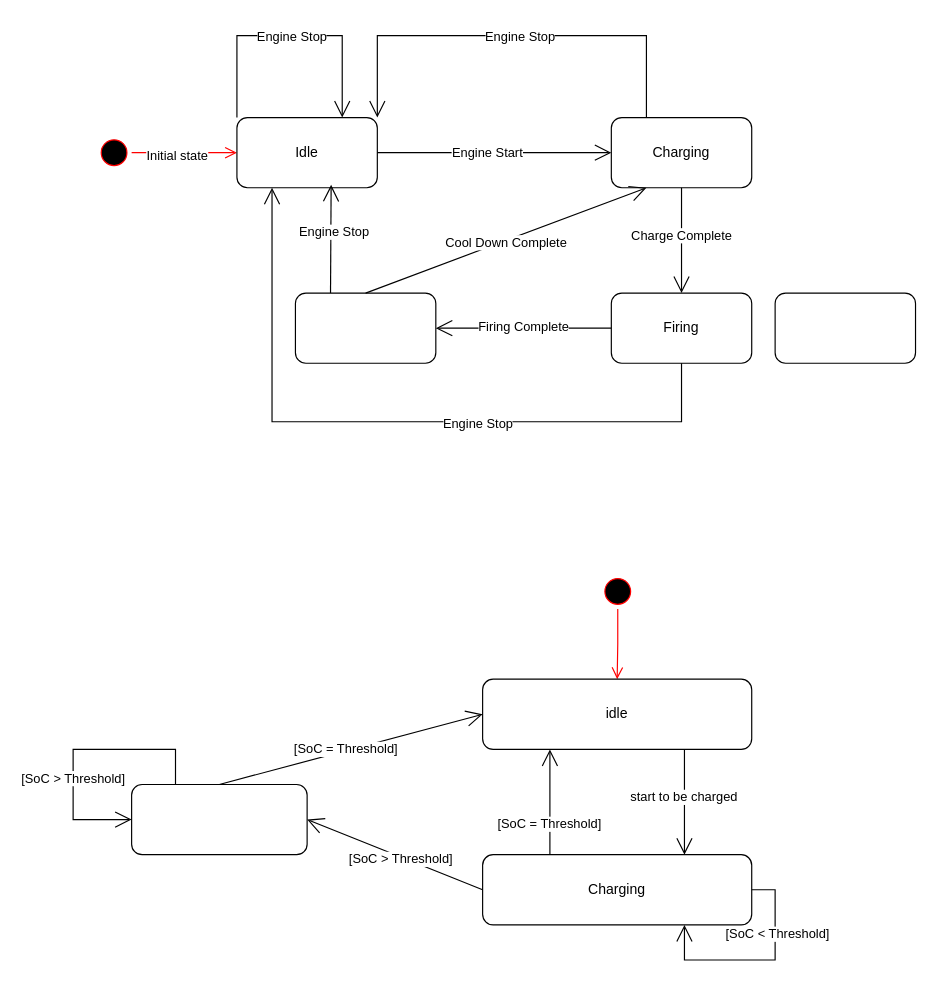
This 936x997 diagram has some shape labels left out. The shapes that lost their labels are listed below. From the top down, each one's centre as x and y in pixels, then its label:
At point 365,327: "Cooling".
At point 845,327: "High Temperature".
At point 218,819: "Discharging".
